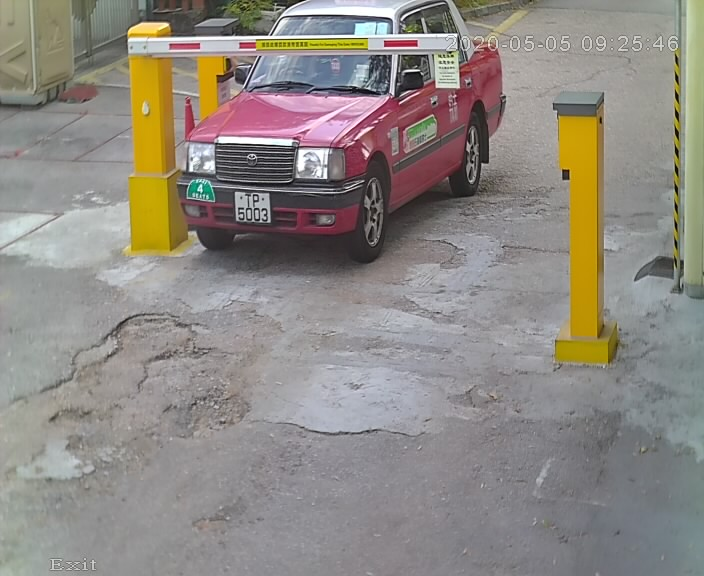taxi: (173, 2, 518, 256)
taxi_mark: (182, 171, 220, 213)
